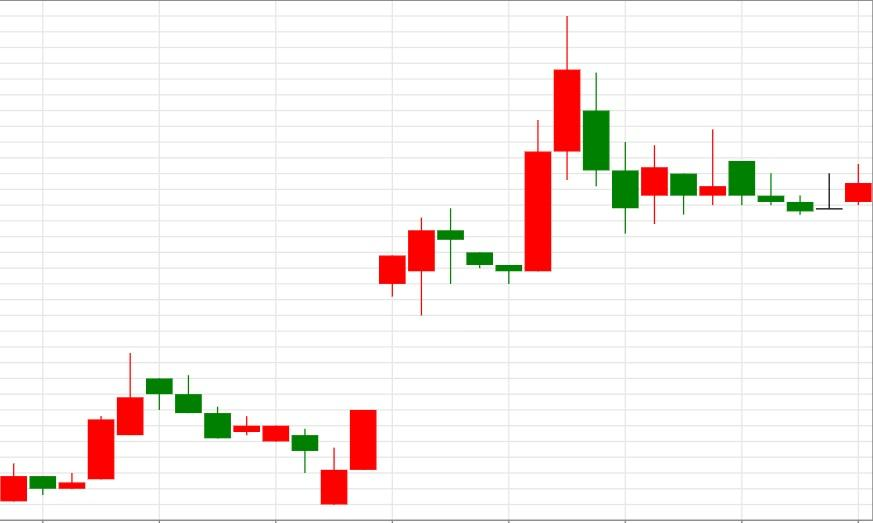three_black_crows_fall: (0, 352, 231, 502)
three_white_soldiers_rise: (145, 254, 407, 504)
